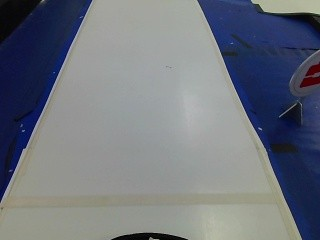company: (291, 49, 318, 104)
